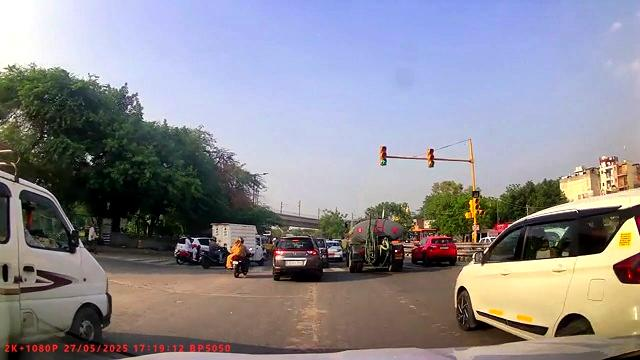passenger_without_helmet: (230, 236, 250, 278)
